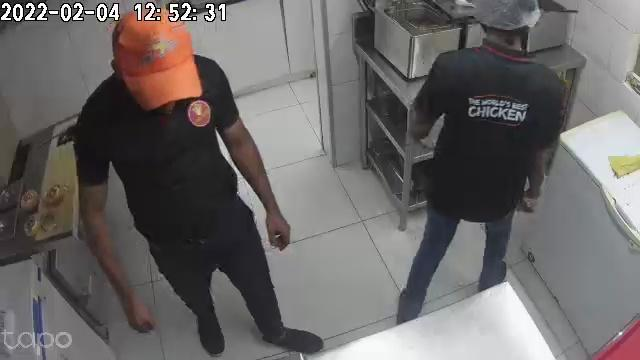no_gloves: (121, 286, 155, 335), (261, 196, 290, 249)
